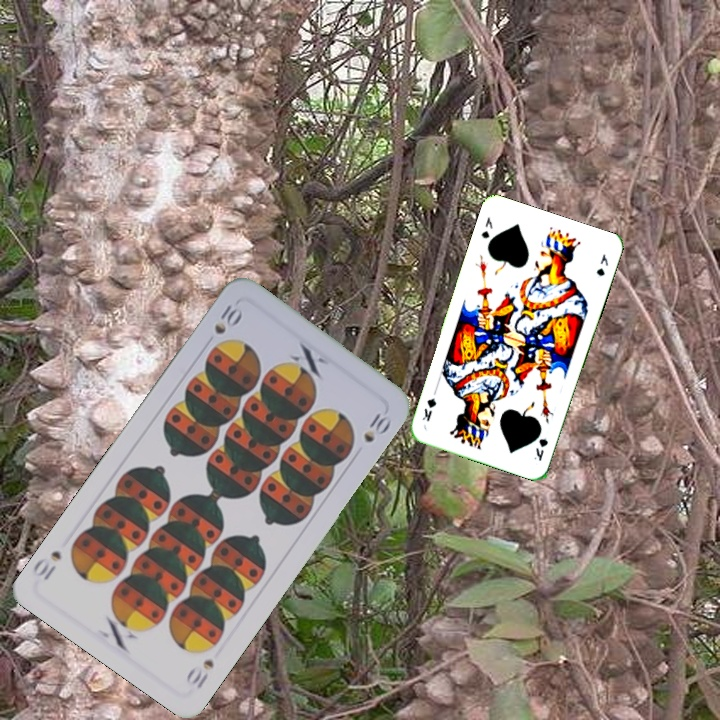GK: (530, 433, 550, 464), (477, 213, 495, 241)
S10: (209, 300, 245, 337), (181, 655, 217, 692)
